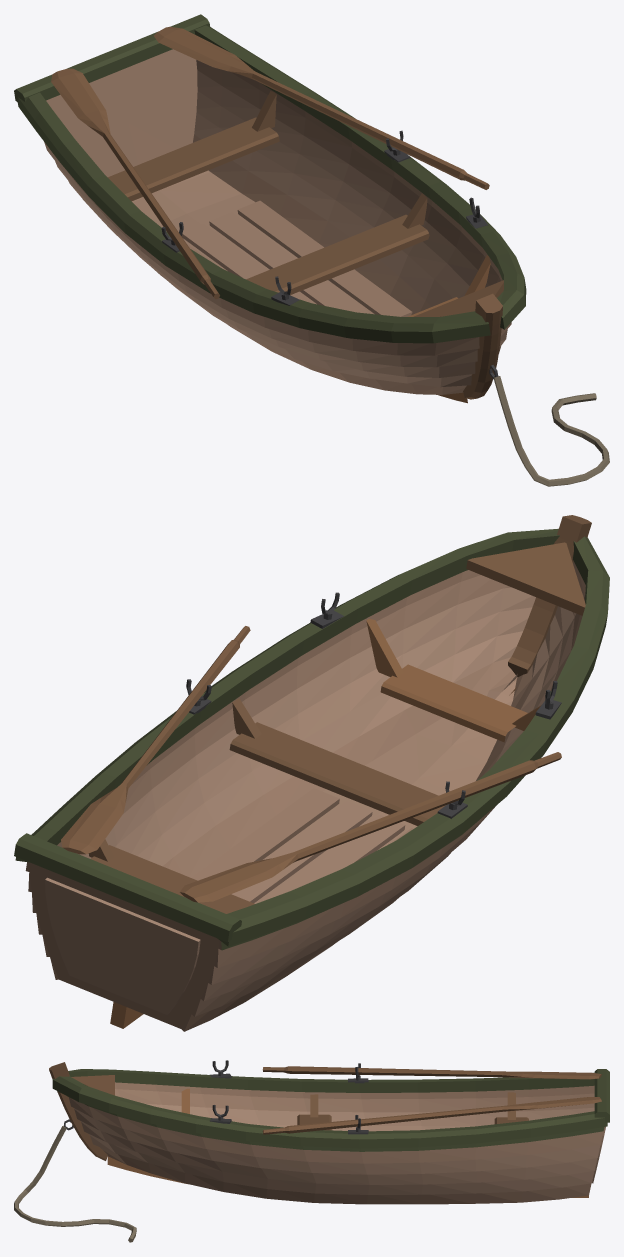
Rendered from lake-rowing-skiff-4916e7.glb.
3 views of the same model, one above another, from view 1: azimuth 30°, elevation 25°; view 2: azimuth 150°, elevation 25°; view 3: azimuth 270°, elevation 25° (orthographic). The views are drawn at different scales.
Parts seen in each view (by area): view 1: skiff-hull, oar-mesh-port, oar-mesh-starboard; view 2: skiff-hull, oar-mesh-starboard, oar-mesh-port; view 3: skiff-hull, oar-mesh-port, oar-mesh-starboard.
Boxes of the visible parts, x1,y1,x2,y2 form: skiff-hull: (14, 14, 609, 486); oar-mesh-port: (154, 26, 489, 189); oar-mesh-starboard: (51, 68, 219, 299); skiff-hull: (14, 515, 609, 1031); oar-mesh-starboard: (180, 752, 561, 902); oar-mesh-port: (61, 626, 250, 854); skiff-hull: (14, 1060, 609, 1242); oar-mesh-port: (262, 1097, 601, 1134); oar-mesh-starboard: (262, 1066, 601, 1079).
Bounding box in the file's own units: 1.51 × 0.8824 × 3.8.
